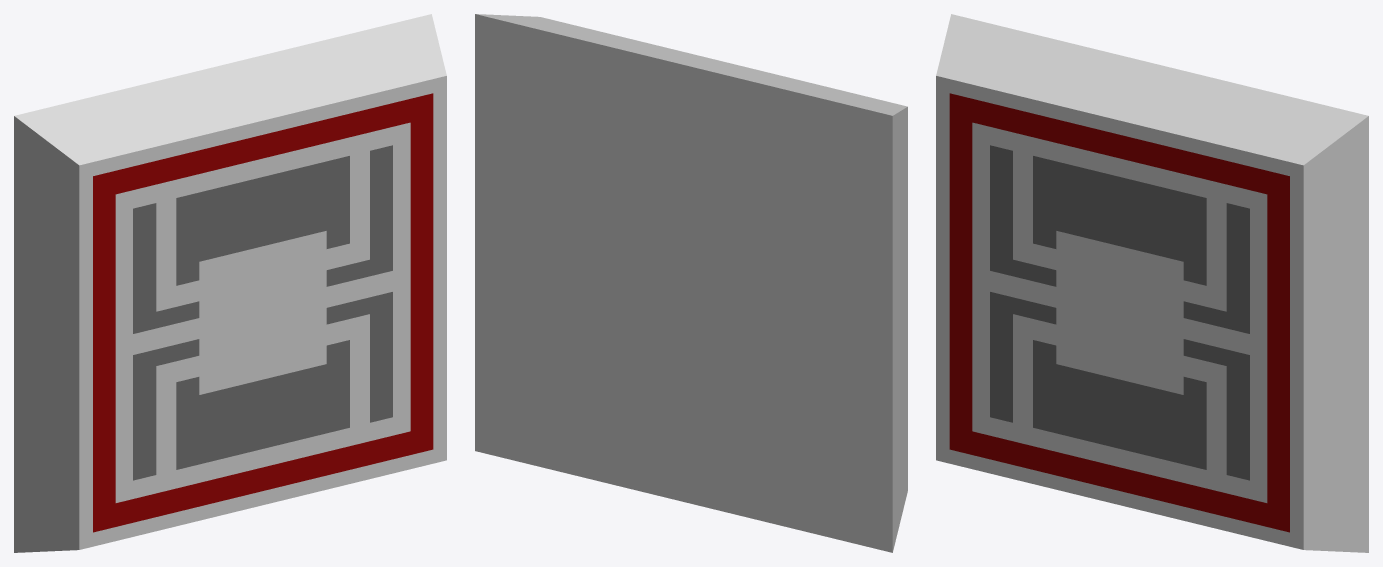
Rendered from SciFi_Modular_Semiotic_Life_Support_System_01.fbx.
3 views of the same model, side by side, from view 1: azimuth 30°, elevation 25°; view 2: azimuth 150°, elevation 25°; view 3: azimuth 330°, elevation 25° (orthographic).
Parts seen in each view (by area): view 1: SciFi_Modular_Semiotic_Life_Support_System_01; view 2: SciFi_Modular_Semiotic_Life_Support_System_01; view 3: SciFi_Modular_Semiotic_Life_Support_System_01.
Part boxes in pixels (x1,y1,x2,y2): SciFi_Modular_Semiotic_Life_Support_System_01: [14, 14, 446, 552]; SciFi_Modular_Semiotic_Life_Support_System_01: [475, 14, 907, 552]; SciFi_Modular_Semiotic_Life_Support_System_01: [936, 14, 1368, 552].
Size of the model in its own units: 536 by 536 by 89.41.
